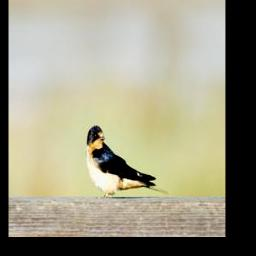Swallow: (86, 124, 170, 201)
